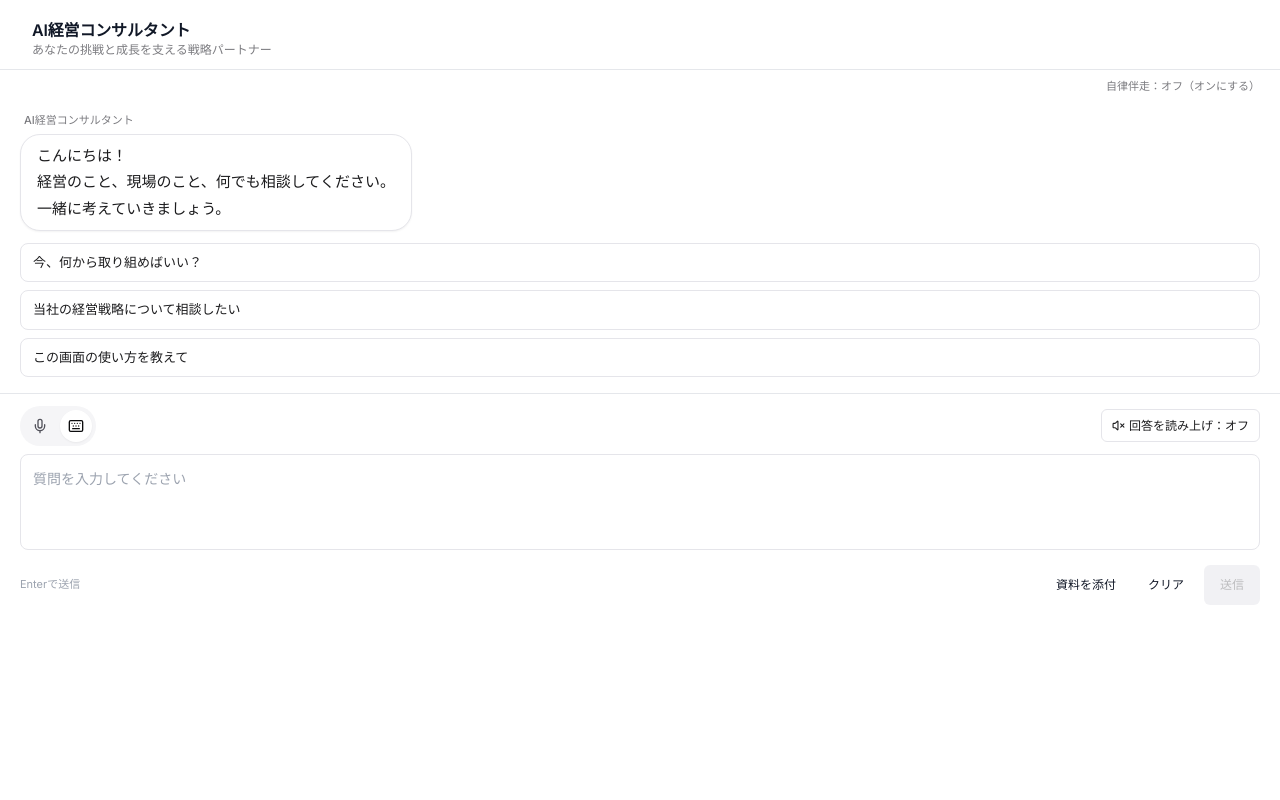
Test: 自律伴走：企業の分離 › 助言の依頼が処理中に会社を切り替えても、切替前の会社の助言は表示も保存もしない
Later steps or results of the test are not shown.
Expected: the text box is enabled, [20,454,1260,550]
Click the button "自律伴走：オフ（オンにする）" at (1183, 87), box [1106,78,1260,96]
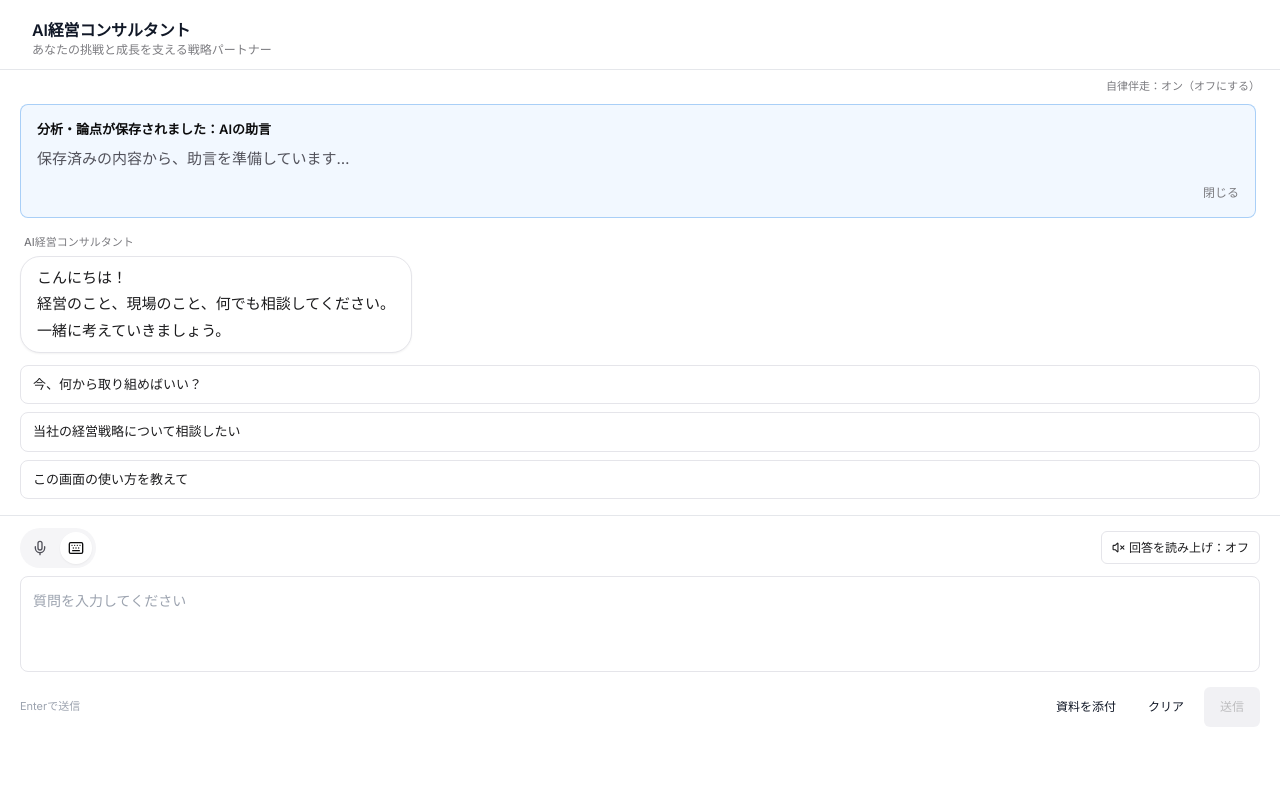
Expected: the element showing "分析・論点が保存されました：AIの助言 保存済みの内容から、助言を準備しています… 閉じる" is shown, [20,104,1256,218]
